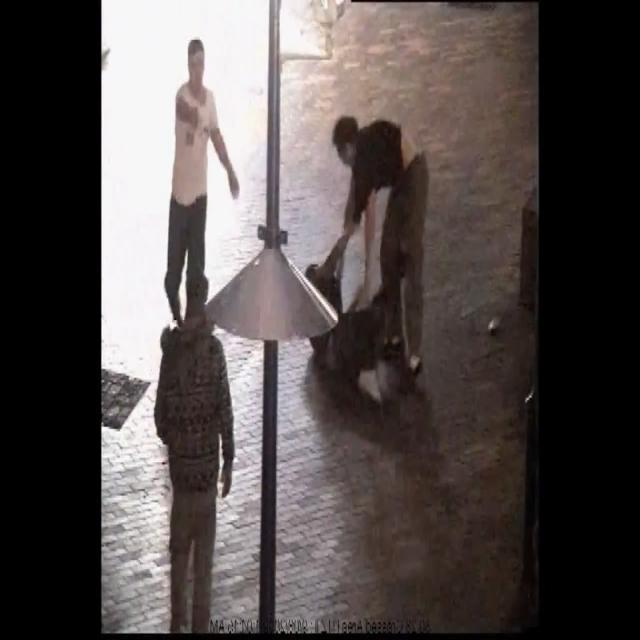non-violence: (155, 271, 239, 634), (163, 39, 241, 315)
violence: (302, 115, 432, 406)
